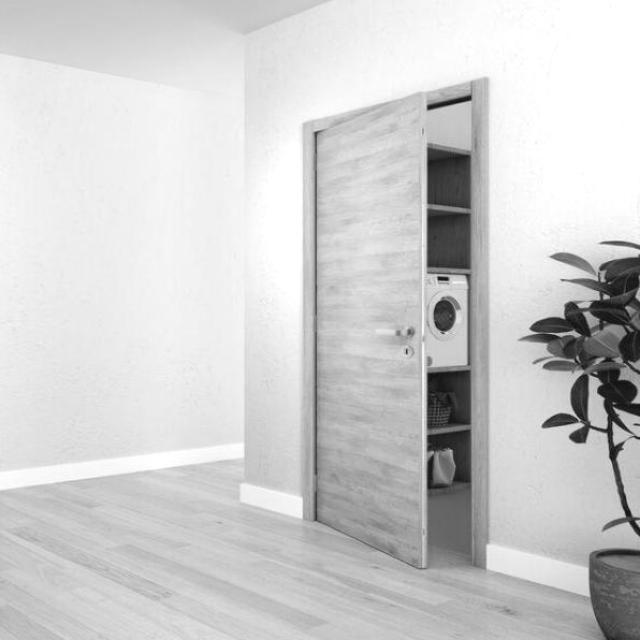door: (312, 83, 432, 576)
